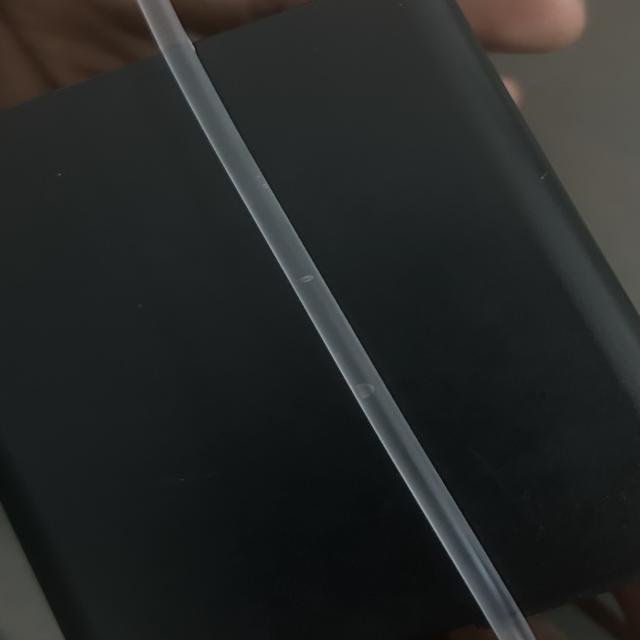bubble: (282, 269, 335, 294), (347, 376, 386, 404)
